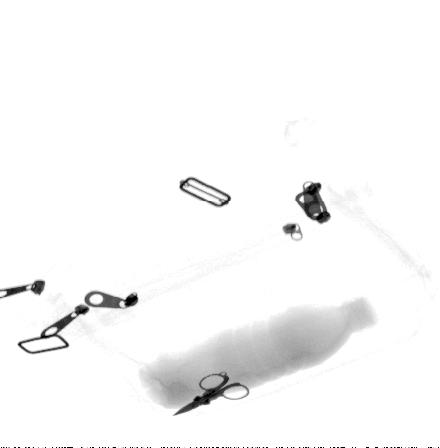Scissors: (171, 370, 250, 416)
